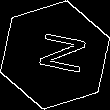N_W: (25, 30, 85, 80)
